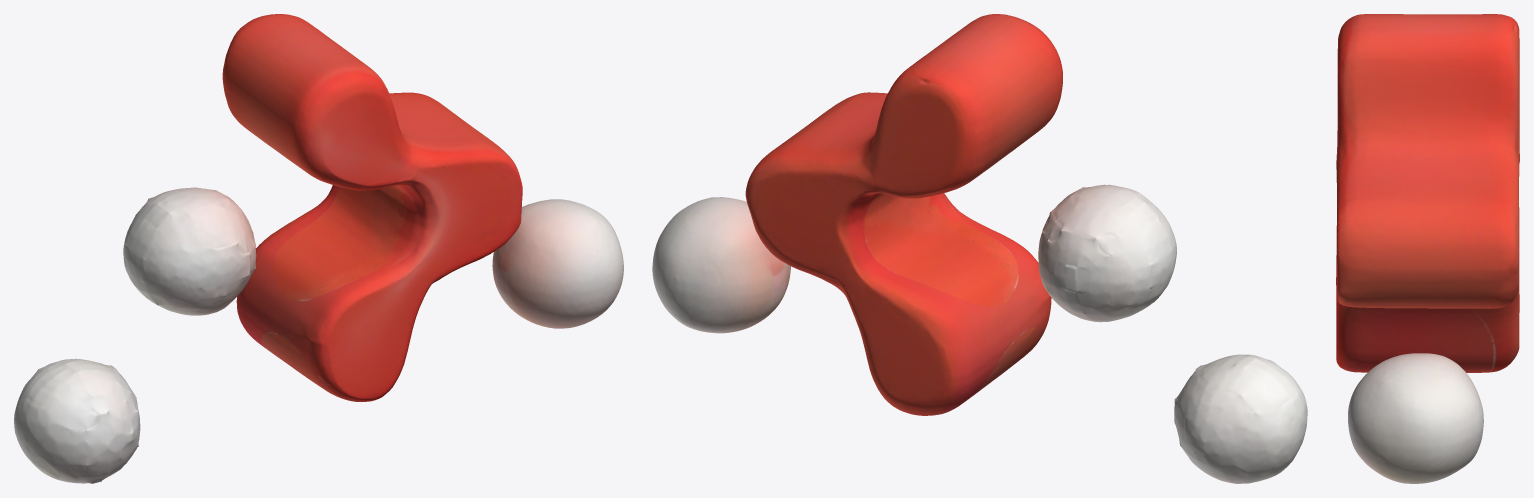
Rendered from React_Router.gltf.
3 renders of one model, left to right at view 1: azimuth 30°, elevation 25°; view 2: azimuth 150°, elevation 25°; view 3: azimuth 270°, elevation 25°, orthographic. The views are drawn at different scales.
Visible parts, largest first — view 1: Mesh_0; view 2: Mesh_0; view 3: Mesh_0.
Boxes of the visible parts, x1,y1,x2,y2 form: Mesh_0: [14, 14, 623, 483]; Mesh_0: [652, 14, 1307, 483]; Mesh_0: [1336, 14, 1519, 483].
Size of the model in its own units: 1.51 by 0.8798 by 0.3994.
Materials: 1 (1 with a texture image).
